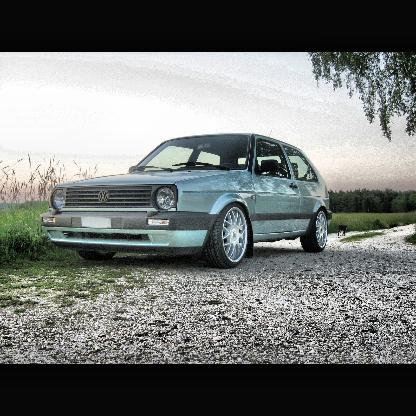Volkswagen Golf Hatchback 1991: (40, 131, 334, 270)
